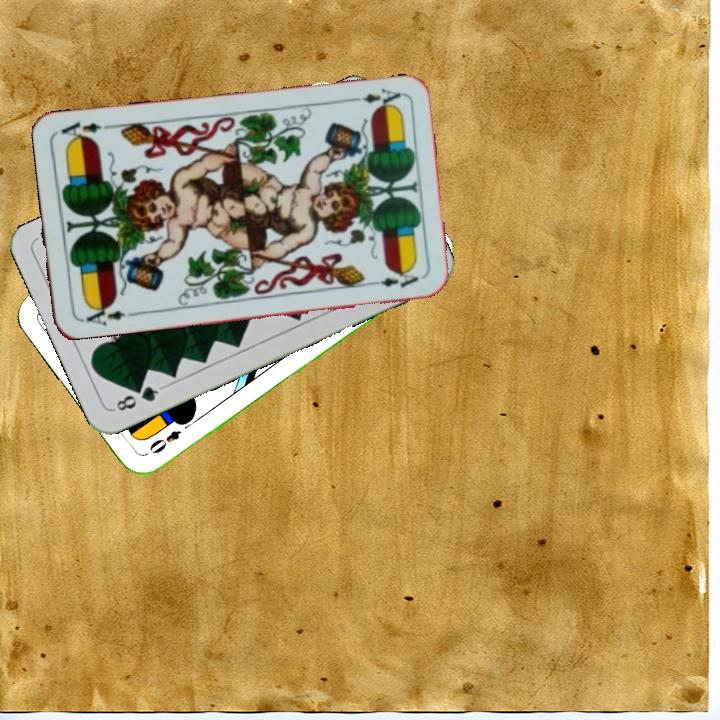EA: (77, 299, 136, 328), (345, 84, 403, 112)
EO: (145, 417, 195, 457)
G8: (109, 382, 165, 414)
